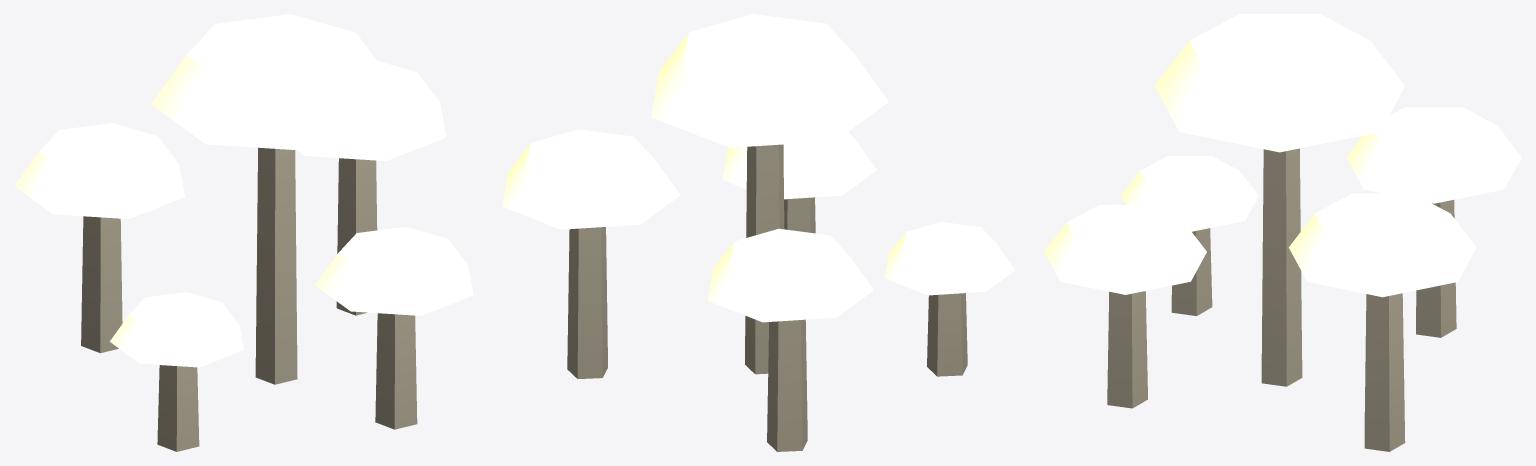
Rendered from beacon_jungle.glb.
The picture shows the model from 3 angles, left to right: view 1: azimuth 30°, elevation 25°; view 2: azimuth 150°, elevation 25°; view 3: azimuth 270°, elevation 25°; orthographic projection. The views are drawn at different scales.
Visible parts, largest first — view 1: beacon_jungle; view 2: beacon_jungle; view 3: beacon_jungle.
Boxes of the visible parts, bbox=[...] form: beacon_jungle: bbox=[14, 14, 473, 451]; beacon_jungle: bbox=[502, 14, 1015, 451]; beacon_jungle: bbox=[1044, 14, 1521, 451].
Size of the model in its own units: 0.7491 by 0.584 by 0.7432.
